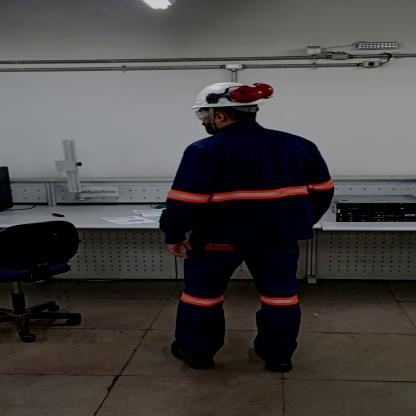Capacete: (179, 81, 276, 108)
